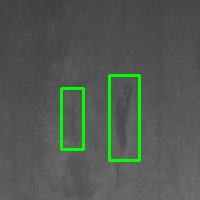inclusion: (109, 75, 139, 160), (61, 88, 83, 149)
